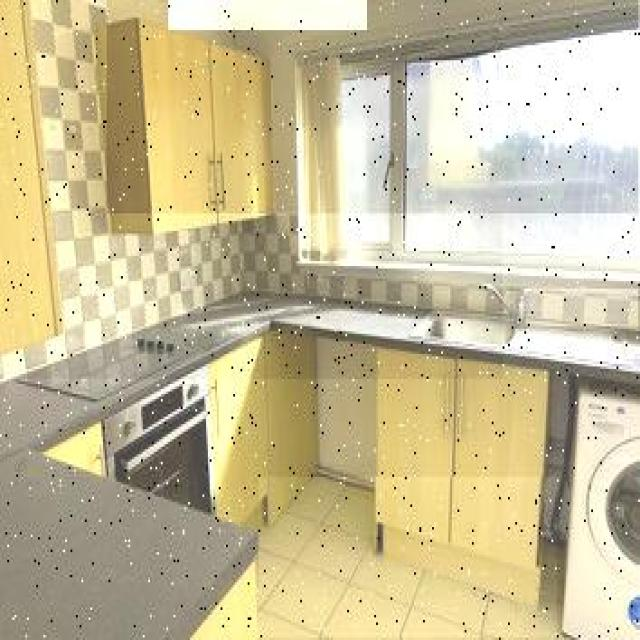Wall: (0, 0, 503, 379), (108, 0, 640, 213), (260, 478, 557, 637), (170, 1, 367, 30), (525, 290, 640, 325)
